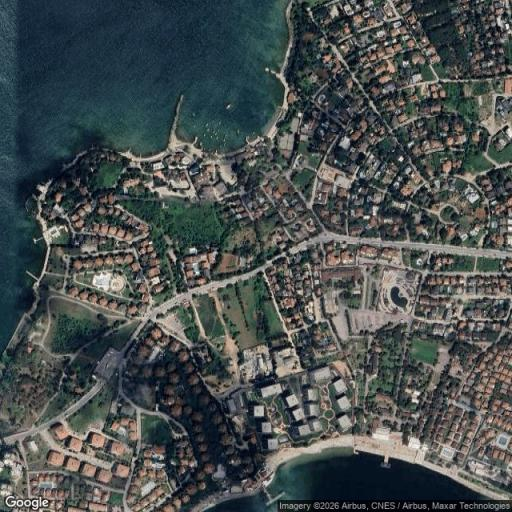ship: (244, 135, 251, 144), (201, 131, 208, 137), (220, 138, 227, 144), (204, 128, 210, 133), (194, 135, 197, 145), (198, 141, 203, 147), (250, 132, 256, 137), (226, 104, 231, 109), (218, 120, 222, 126), (205, 122, 209, 128), (215, 136, 220, 140), (208, 134, 213, 138), (222, 142, 227, 146), (214, 132, 218, 136), (237, 128, 239, 134), (192, 125, 196, 128), (224, 135, 228, 138), (192, 113, 194, 117), (212, 130, 214, 134), (218, 129, 220, 133)
